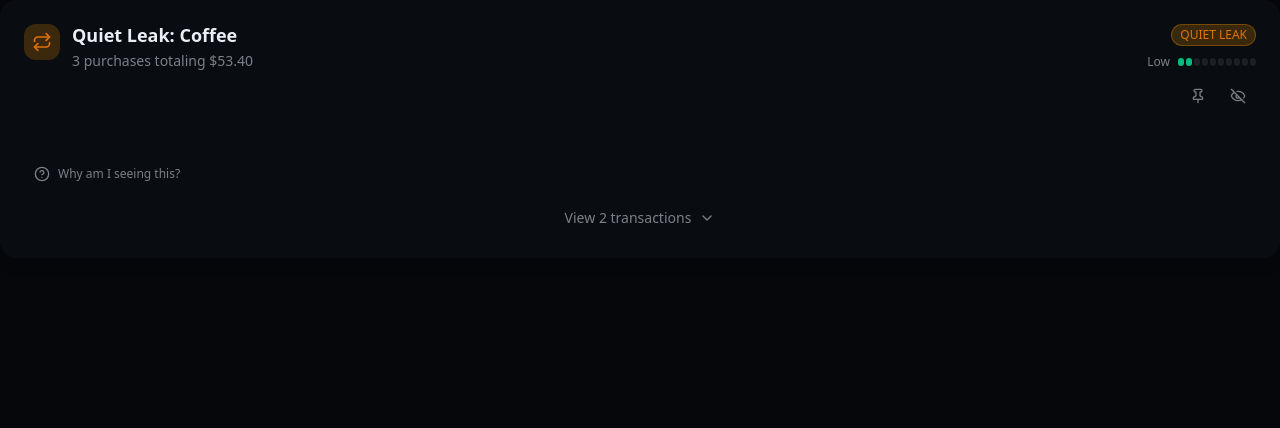
Scenario: InsightCard › fetches missing supporting transactions when expanded
Click the button with aria-label "show transactions for": (640, 218) [24, 202, 1256, 234]
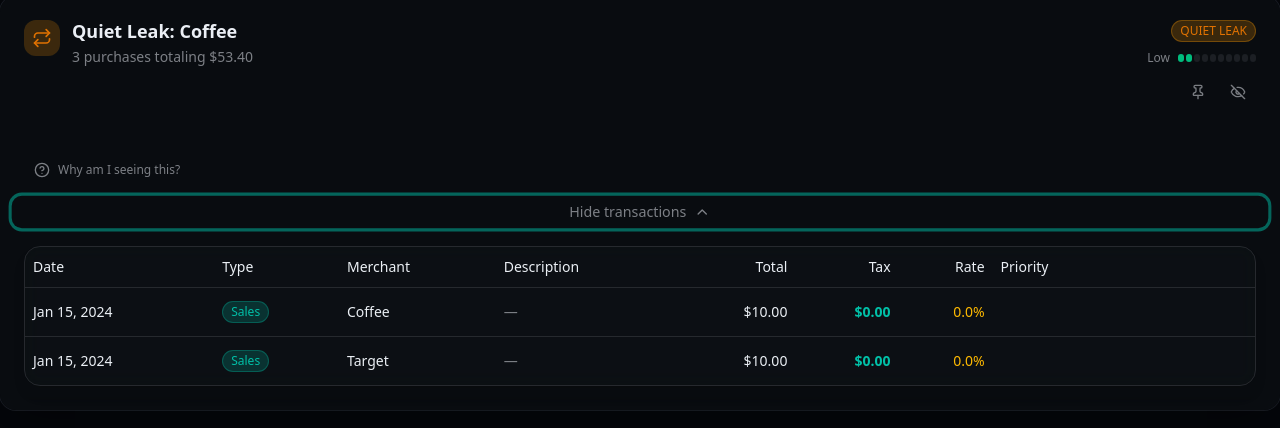
Expected: the text "Target" is shown, [339, 336, 496, 384]
